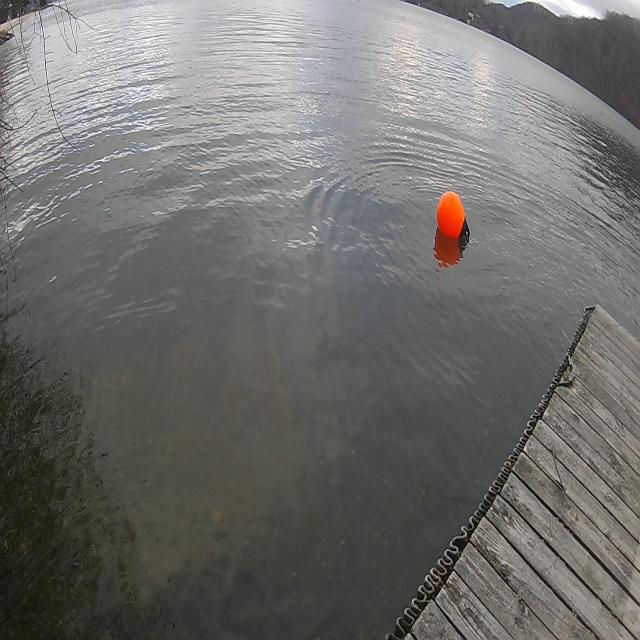Buoy: (436, 185, 474, 254)
